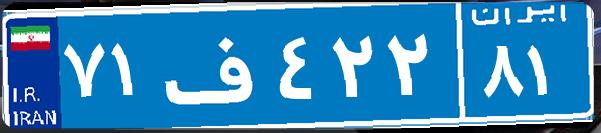1: (110, 28, 158, 105), (525, 38, 570, 115)
2: (385, 28, 445, 110), (330, 28, 385, 110)
4: (273, 28, 330, 110)
7: (57, 26, 110, 107)
8: (475, 38, 525, 113)
ف: (158, 15, 273, 115)
